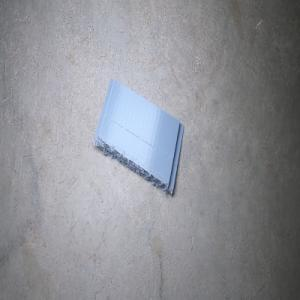PlasticPart: (91, 78, 184, 196)
